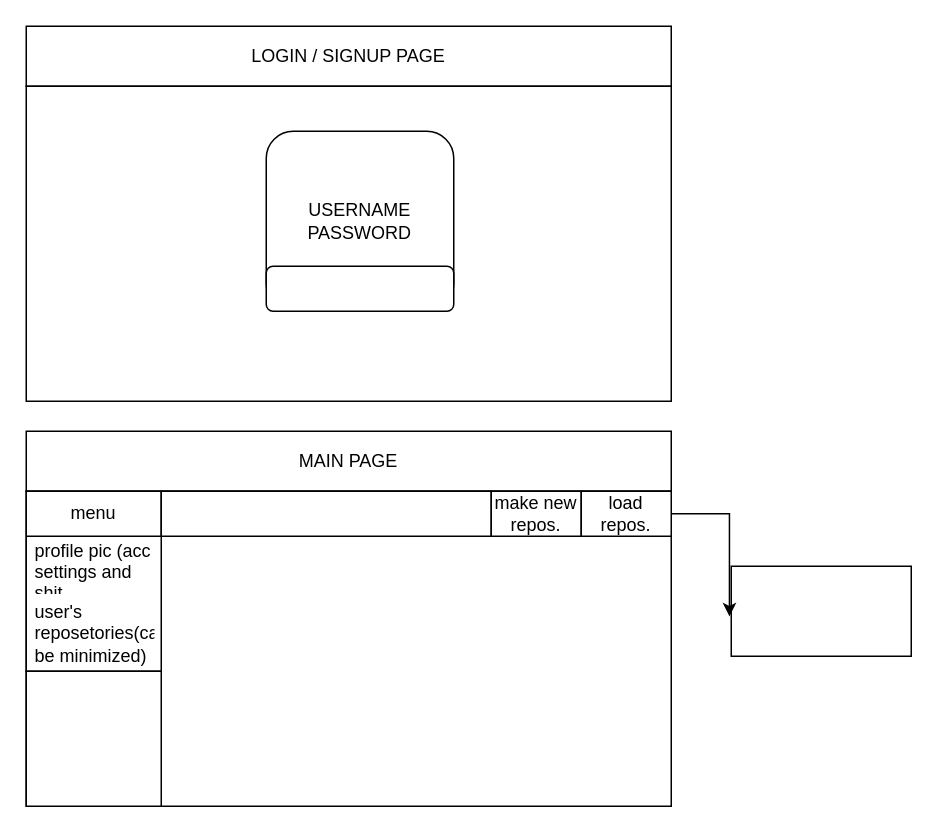
Some shapes in this 938 by 833 pixel diagram are drawn without their labels. Here are the shapes that lost their labels. From the top down, the centre of each, then its label:
the point at 359,288: ENTER BUTTON
the point at 325,513: reposetory name
the point at 820,610: can fetch and load repos. of other users they have permission to
